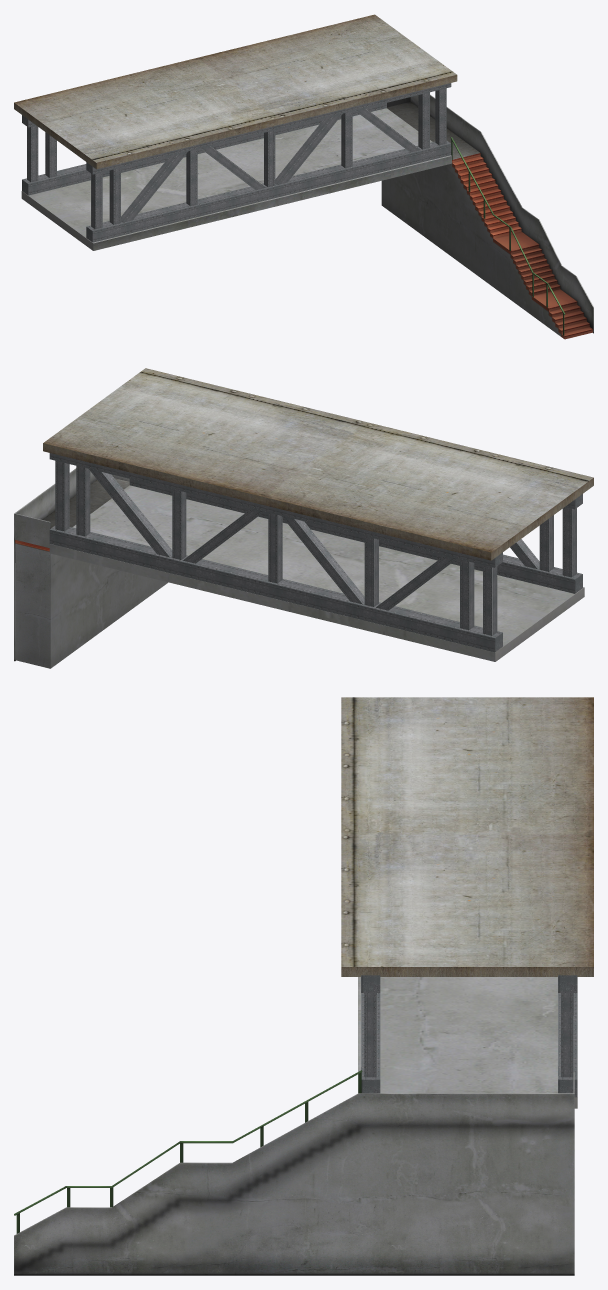
File: n_bridge_02.fbx
3 renders of one model, top to bottom at view 1: azimuth 30°, elevation 25°; view 2: azimuth 150°, elevation 25°; view 3: azimuth 270°, elevation 25°, orthographic. The views are drawn at different scales.
Visible parts, largest first — view 1: polySurface491, polySurface494, polySurface412, polySurface461; view 2: polySurface491, polySurface494, polySurface412; view 3: polySurface491, polySurface412, polySurface461.
Part boxes in pixels (x1=…): polySurface491: x1=14, y1=14, x2=457, y2=250; polySurface494: x1=381, y1=97, x2=592, y2=339; polySurface412: x1=410, y1=94, x2=593, y2=333; polySurface461: x1=450, y1=137, x2=565, y2=335; polySurface491: x1=43, y1=368, x2=593, y2=661; polySurface494: x1=15, y1=478, x2=168, y2=668; polySurface412: x1=14, y1=468, x2=129, y2=661; polySurface491: x1=341, y1=697, x2=593, y2=1108; polySurface412: x1=14, y1=1093, x2=574, y2=1275; polySurface461: x1=14, y1=1070, x2=362, y2=1233.
Size of the model in its own units: 2789 by 1278 by 2344.
